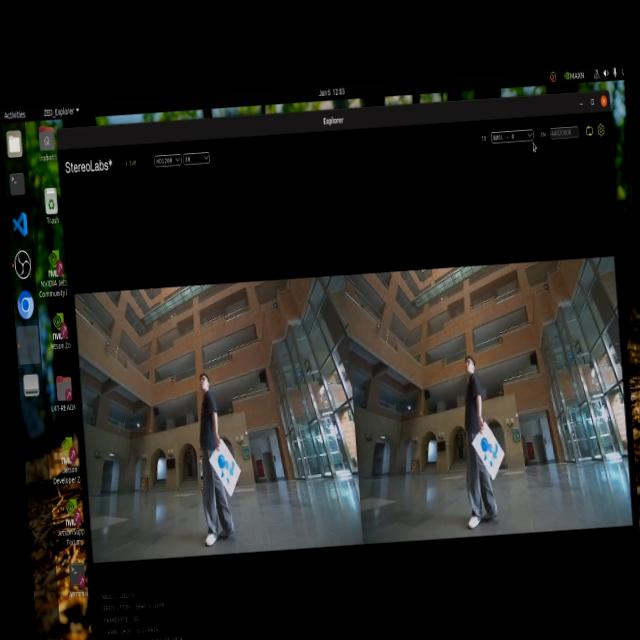blue: (474, 432, 507, 472), (217, 446, 243, 491)
